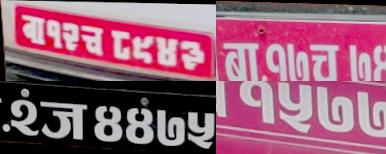1: (236, 81, 275, 127), (261, 38, 287, 81), (43, 19, 63, 47)
2: (7, 95, 40, 138), (62, 21, 80, 51)
3: (177, 38, 205, 68)
4: (90, 101, 124, 144), (123, 102, 156, 145), (152, 34, 179, 67), (370, 40, 386, 81)
5: (273, 81, 315, 133), (183, 105, 216, 149)
7: (314, 81, 355, 137), (353, 85, 386, 147), (154, 104, 186, 147), (284, 38, 310, 81), (346, 39, 372, 81)
8: (108, 28, 132, 59)
9: (129, 34, 156, 62)
ba: (217, 38, 260, 81), (20, 14, 46, 44)
cha: (307, 40, 342, 81), (78, 24, 105, 57), (216, 81, 231, 120)
ja: (37, 95, 90, 143)
